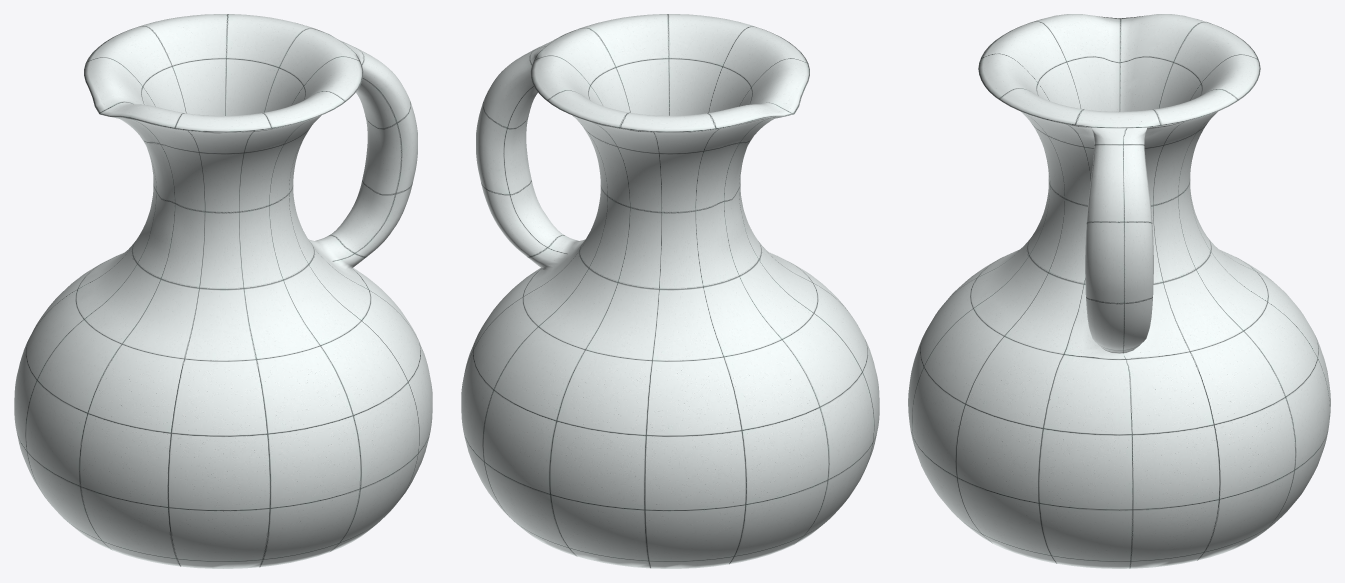
File: 静物_瓶罐_Water Jug_opt.glb
The picture shows the model from 3 angles, left to right: view 1: azimuth 30°, elevation 25°; view 2: azimuth 150°, elevation 25°; view 3: azimuth 270°, elevation 25°; orthographic projection.
Visible parts, largest first — view 1: SM_WaterJug01_MI_CeramicTileClean01001_0; view 2: SM_WaterJug01_MI_CeramicTileClean01001_0; view 3: SM_WaterJug01_MI_CeramicTileClean01001_0.
Boxes of the visible parts, x1,y1,x2,y2 form: SM_WaterJug01_MI_CeramicTileClean01001_0: (14,14,432,568); SM_WaterJug01_MI_CeramicTileClean01001_0: (461,14,879,568); SM_WaterJug01_MI_CeramicTileClean01001_0: (908,14,1330,568).
Bounding box in the file's own units: 0.2677 × 0.3 × 0.2628.
Materials: 1 (1 with a texture image).
